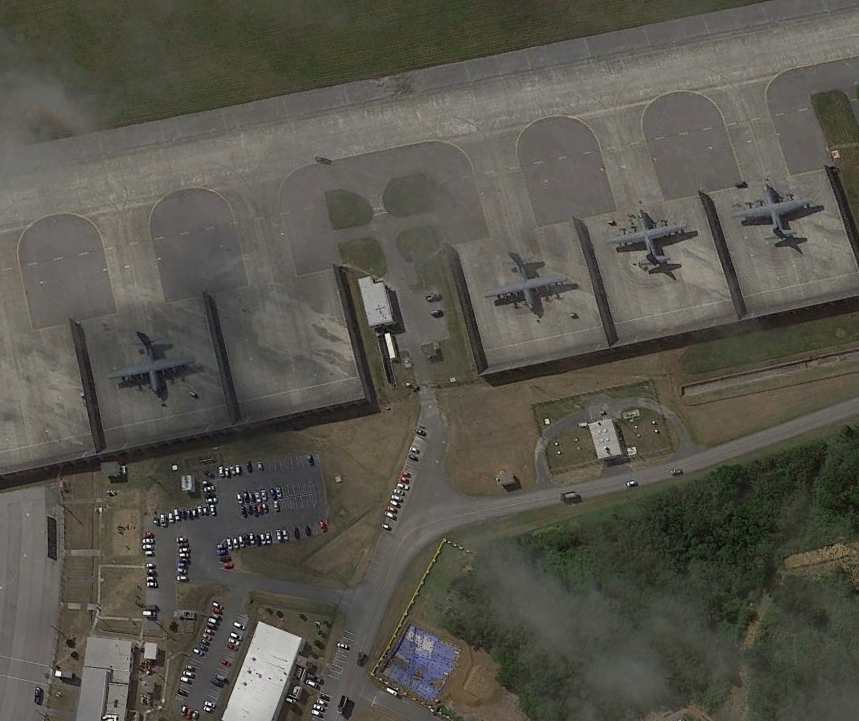A2: (106, 327, 200, 397), (483, 249, 575, 316), (600, 207, 695, 270), (727, 182, 819, 246)
